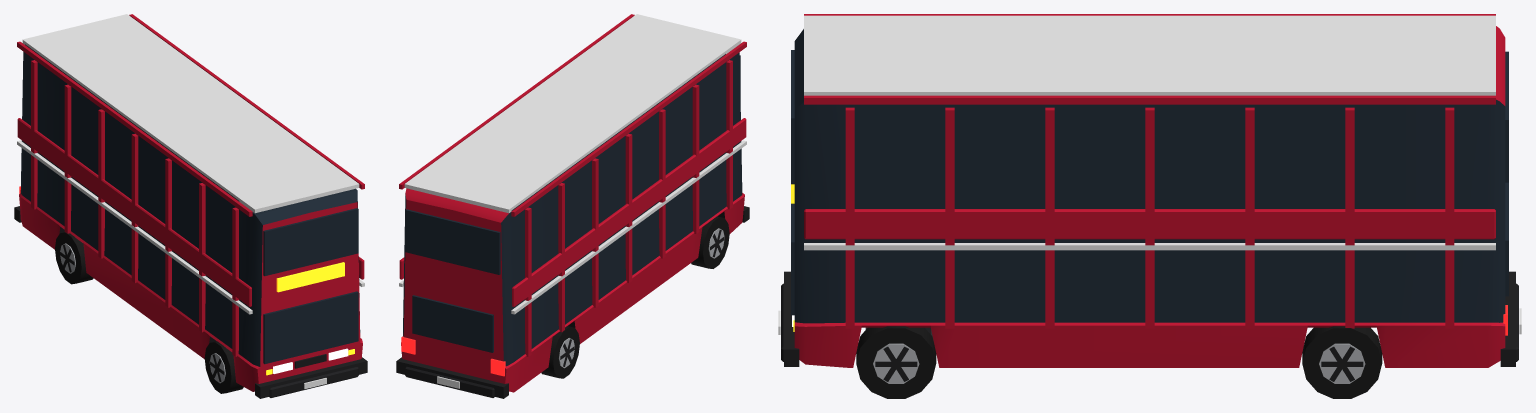
File: bus.glb
3 renders of one model, left to right at view 1: azimuth 30°, elevation 25°; view 2: azimuth 150°, elevation 25°; view 3: azimuth 270°, elevation 25°, orthographic. The views are drawn at different scales.
Visible parts, largest first — view 1: bus_body, bus_door_r, bus_wheel_fr, bus_wheel_rr; view 2: bus_body, bus_door_r, bus_wheel_fr, bus_wheel_rr; view 3: bus_body, bus_door_l, bus_wheel_fl, bus_wheel_rl.
Boxes of the visible parts, box(x1,y1,x2,y2) form: bus_body: box(14, 14, 367, 398); bus_door_r: box(199, 175, 228, 358); bus_wheel_fr: box(204, 341, 243, 393); bus_wheel_rr: box(55, 232, 93, 284); bus_body: box(396, 14, 749, 398); bus_door_r: box(690, 61, 718, 261); bus_wheel_fr: box(691, 216, 729, 268); bus_wheel_rr: box(541, 326, 579, 378); bus_body: box(778, 14, 1521, 367); bus_door_l: box(881, 104, 957, 367); bus_wheel_fl: box(856, 326, 936, 398); bus_wheel_rl: box(1302, 326, 1382, 398).
Bounding box in the file's own units: 2.65 × 4.35 × 9.67.
